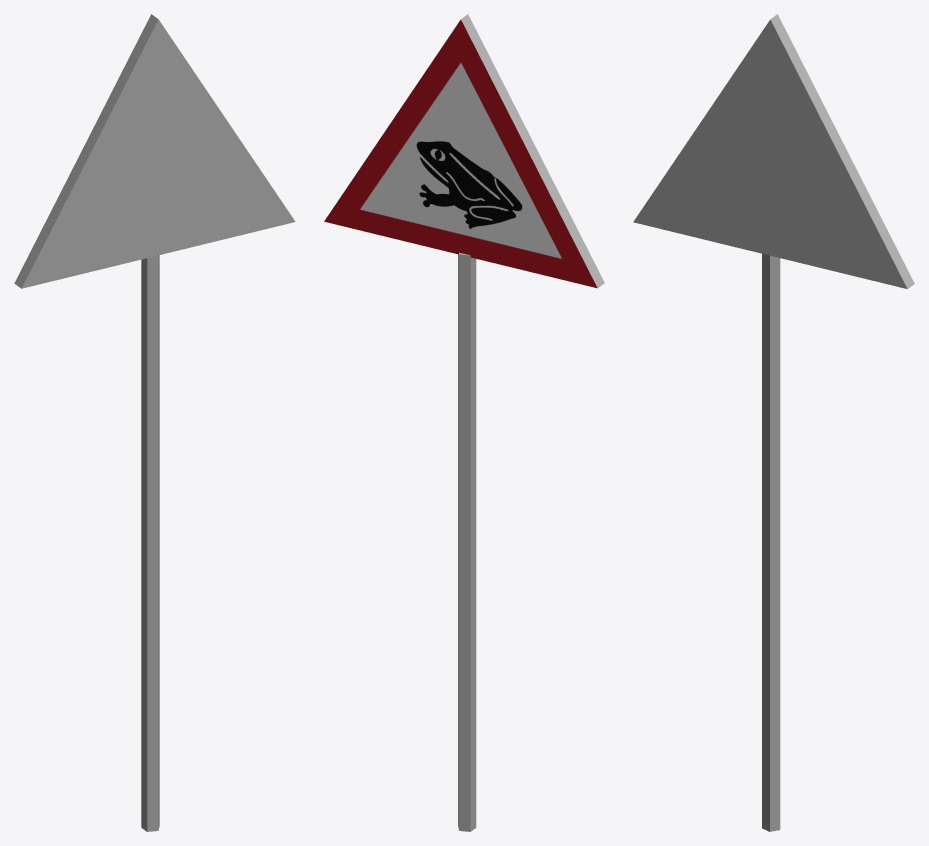
Rendered from SM_Shield.fbx.
3 views of the same model, side by side, from view 1: azimuth 30°, elevation 25°; view 2: azimuth 150°, elevation 25°; view 3: azimuth 330°, elevation 25° (orthographic).
Parts seen in each view (by area): view 1: pCylinder85; view 2: pCylinder85; view 3: pCylinder85.
Part boxes in pixels (left/top/right/bottom): pCylinder85: left=14, top=14, right=295, bottom=831; pCylinder85: left=324, top=14, right=604, bottom=831; pCylinder85: left=633, top=14, right=914, bottom=831.
Bounding box in the file's own units: 0.4319 × 1.22 × 0.0254.
